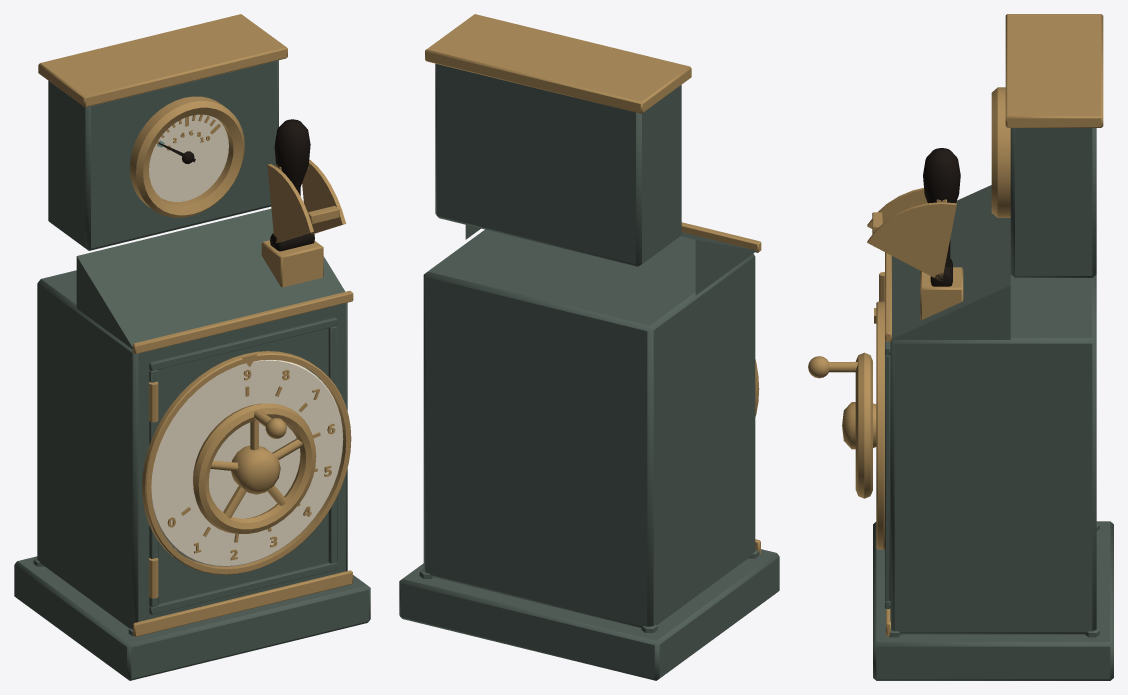
The model's file is sun_pedestal.glb.
3 renders of one model, left to right at view 1: azimuth 30°, elevation 25°; view 2: azimuth 150°, elevation 25°; view 3: azimuth 270°, elevation 25°, orthographic. The views are drawn at different scales.
Visible parts, largest first — view 1: sun_pedestal, IA_feed, IA_sun_lever; view 2: sun_pedestal; view 3: sun_pedestal, IA_feed, IA_sun_lever.
Boxes of the visible parts, x1,y1,x2,y2 form: sun_pedestal: [14, 14, 370, 680]; IA_feed: [193, 403, 316, 533]; IA_sun_lever: [270, 119, 314, 251]; sun_pedestal: [399, 14, 779, 680]; sun_pedestal: [867, 14, 1113, 680]; IA_feed: [808, 352, 876, 498]; IA_sun_lever: [923, 148, 960, 286].
Bounding box in the file's own units: 0.68 × 1.42 × 0.711.
